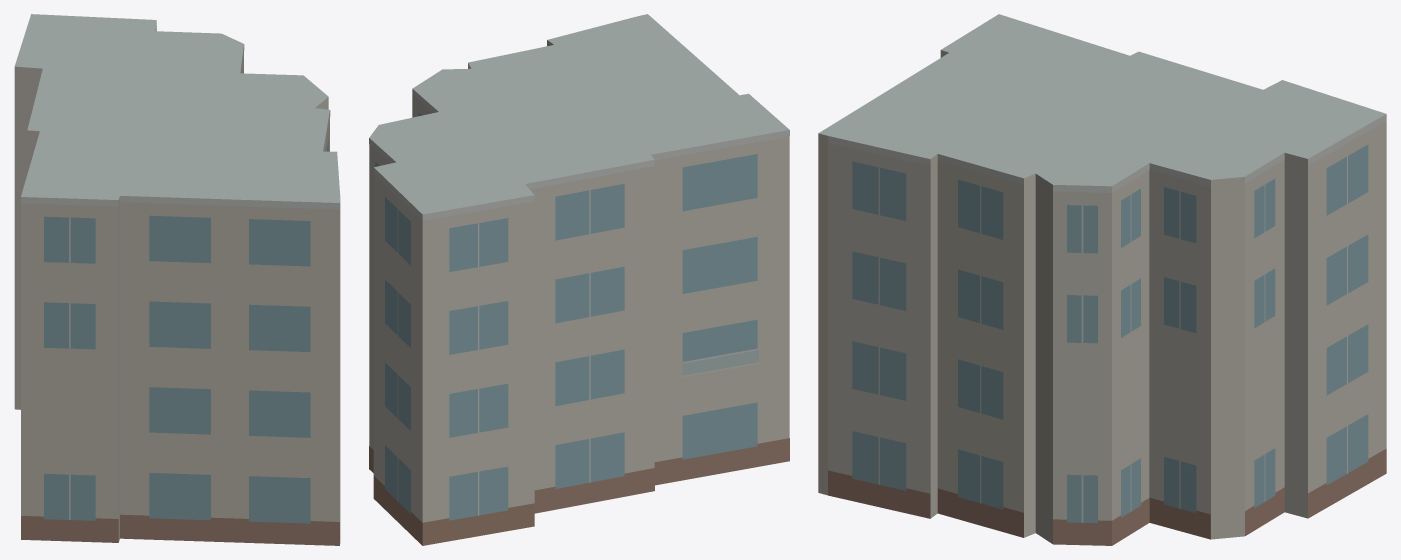
The model's file is survey-upis-32474668.glb.
3 views of the same model, side by side, from view 1: azimuth 30°, elevation 25°; view 2: azimuth 150°, elevation 25°; view 3: azimuth 270°, elevation 25° (orthographic). The views are drawn at different scales.
Parts seen in each view (by area): view 1: survey-upis-32474668.tmp; view 2: survey-upis-32474668.tmp; view 3: survey-upis-32474668.tmp.
Boxes of the visible parts, x1,y1,x2,y2 form: survey-upis-32474668.tmp: (14, 14, 340, 545); survey-upis-32474668.tmp: (369, 14, 789, 545); survey-upis-32474668.tmp: (818, 14, 1386, 545).
Size of the model in its own units: 13.16 by 12.8 by 18.34.
